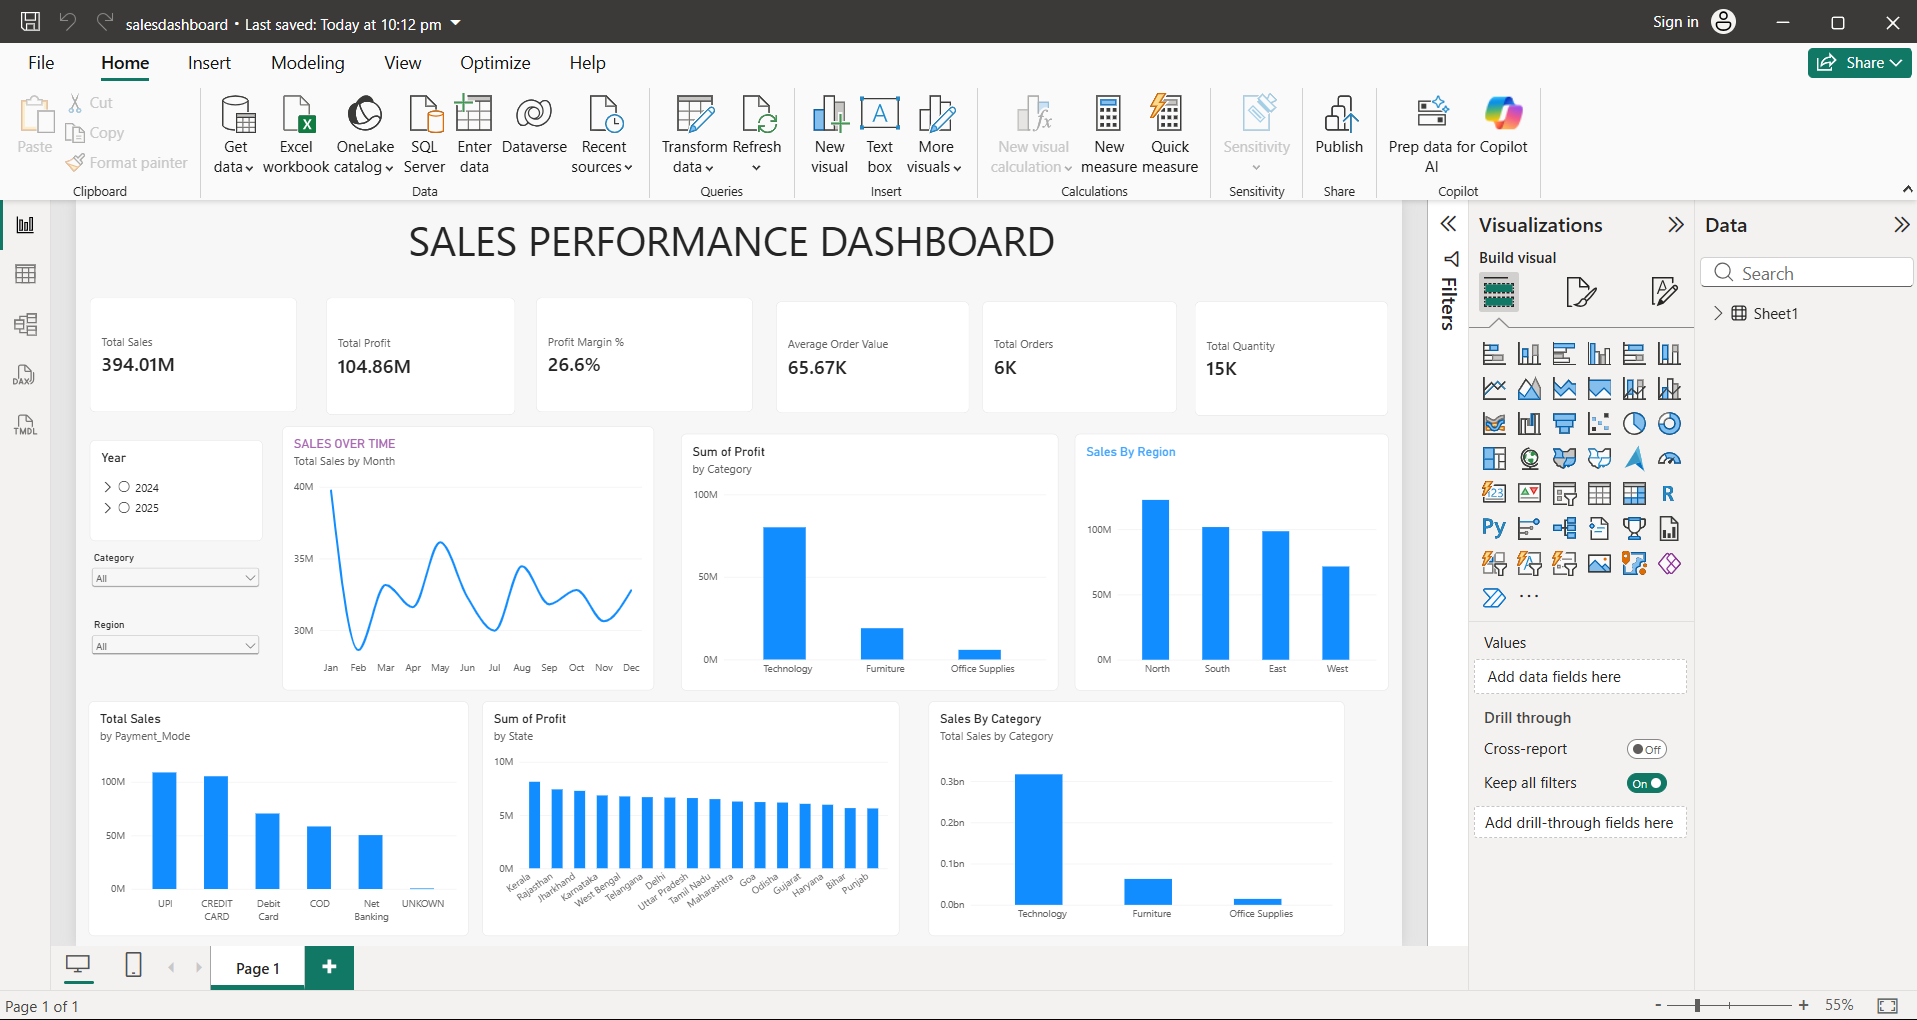

The page's visual inventory and layout, read from the dashboard file:
{"tool":"powerbi","page":{"name":"Page 1","canvas":[1920,1080],"ordinal":0},"visuals":[{"type":"cardVisual","fields":{"Data":["Sheet1.Total Sales"]},"box":[20,142,300,166],"z":0},{"type":"cardVisual","fields":{"Data":["Sheet1.Total Orders"]},"box":[1312,146,282,162],"z":1000},{"type":"cardVisual","fields":{"Data":["Sheet1.Total Profit"]},"box":[362,142,274,170],"z":2000},{"type":"cardVisual","fields":{"Data":["Sheet1.Total Quantity"]},"box":[1620,146,280,166],"z":3000},{"type":"cardVisual","fields":{"Data":["Sheet1.Profit Margin %"]},"box":[666,142,314,166],"z":4000},{"type":"cardVisual","fields":{"Data":["Sheet1.Average Order Value"]},"box":[1014,146,280,162],"z":5000},{"type":"textbox","box":[419.8,18.1,1058.7,95.9],"z":6000},{"type":"lineChart","title":"SALES OVER TIME","fields":{"Category":["Sheet1.Month"],"Y":["Sheet1.Total Sales"]},"box":[298,328,538,382],"z":7000},{"type":"clusteredColumnChart","title":"Sales By Category","fields":{"Category":["Sheet1.Category"],"Y":["Sheet1.Total Sales"]},"box":[1234,726,602,340],"z":8000},{"type":"clusteredColumnChart","title":"Sales By Region","fields":{"Category":["Sheet1.Region"],"Y":["Sum(Sheet1.Sales)"]},"box":[1446,338,454,372],"z":9000},{"type":"clusteredColumnChart","fields":{"Category":["Sheet1.Category"],"Y":["Sum(Sheet1.Profit)"]},"box":[876,338,546,372],"z":10000},{"type":"clusteredColumnChart","fields":{"Category":["Sheet1.State"],"Y":["Sum(Sheet1.Profit)"]},"box":[588,726,604,340],"z":11000},{"type":"listSlicer","fields":{"Values":["Sheet1.Order_Date.Variation.Date Hierarchy.Year","Sheet1.Order_Date.Variation.Date Hierarchy.Quarter","Sheet1.Order_Date.Variation.Date Hierarchy.Month","Sheet1.Order_Date.Variation.Date Hierarchy.Day"]},"box":[20,348,250,146],"z":12000},{"type":"slicer","fields":{"Values":["Sheet1.Region"]},"box":[18,606,252,56],"z":14000},{"type":"slicer","fields":{"Values":["Sheet1.Category"]},"box":[18,508,252,74],"z":15000},{"type":"clusteredColumnChart","fields":{"Category":["Sheet1.Payment_Mode"],"Y":["Sheet1.Total Sales"]},"box":[18,726,550,340],"z":15001}]}

Visuals, with their boxes on the page's 1920x1080 design canvas (x1, y1, x2, y2). These are canvas units, not pixel positions in the 1917x1020 screenshot, which may show the page scaled, cropped or inside an application window:
cardVisual - Sheet1.Total Sales: box=[20, 142, 320, 308]
cardVisual - Sheet1.Total Orders: box=[1312, 146, 1594, 308]
cardVisual - Sheet1.Total Profit: box=[362, 142, 636, 312]
cardVisual - Sheet1.Total Quantity: box=[1620, 146, 1900, 312]
cardVisual - Sheet1.Profit Margin %: box=[666, 142, 980, 308]
cardVisual - Sheet1.Average Order Value: box=[1014, 146, 1294, 308]
textbox: box=[420, 18, 1478, 114]
"SALES OVER TIME" lineChart: box=[298, 328, 836, 710]
"Sales By Category" clusteredColumnChart: box=[1234, 726, 1836, 1066]
"Sales By Region" clusteredColumnChart: box=[1446, 338, 1900, 710]
clusteredColumnChart - Sheet1.Category x Sum(Sheet1.Profit): box=[876, 338, 1422, 710]
clusteredColumnChart - Sheet1.State x Sum(Sheet1.Profit): box=[588, 726, 1192, 1066]
listSlicer - Sheet1.Order_Date.Variation.Date Hierarchy.Year x Sheet1.Order_Date.Variation.Date Hierarchy.Quarter: box=[20, 348, 270, 494]
slicer - Sheet1.Region: box=[18, 606, 270, 662]
slicer - Sheet1.Category: box=[18, 508, 270, 582]
clusteredColumnChart - Sheet1.Payment_Mode x Sheet1.Total Sales: box=[18, 726, 568, 1066]
